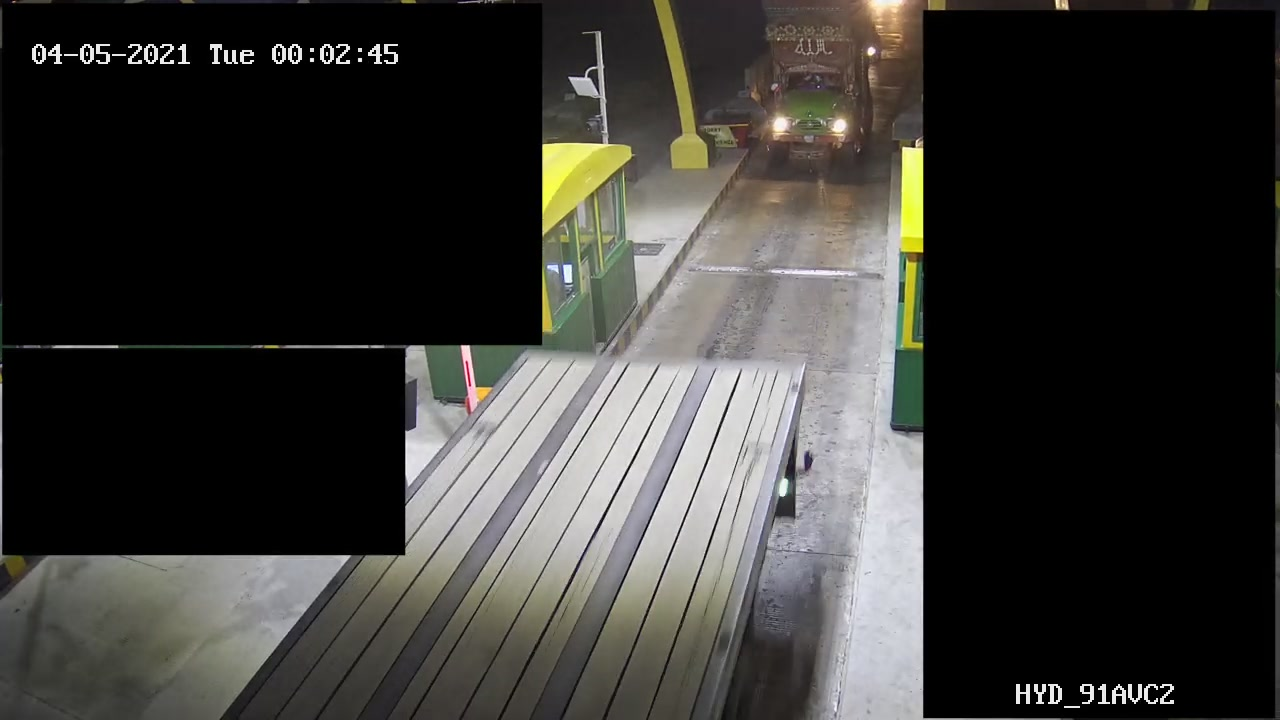F5: (761, 1, 876, 188)
